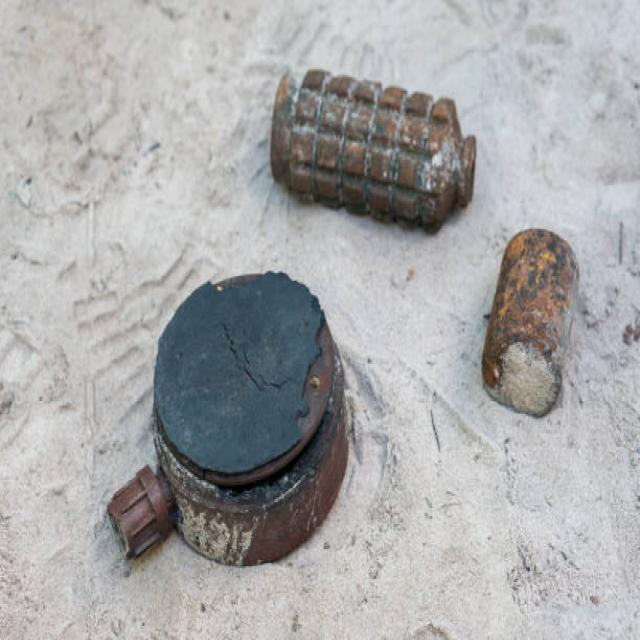grenade: (263, 63, 486, 238)
